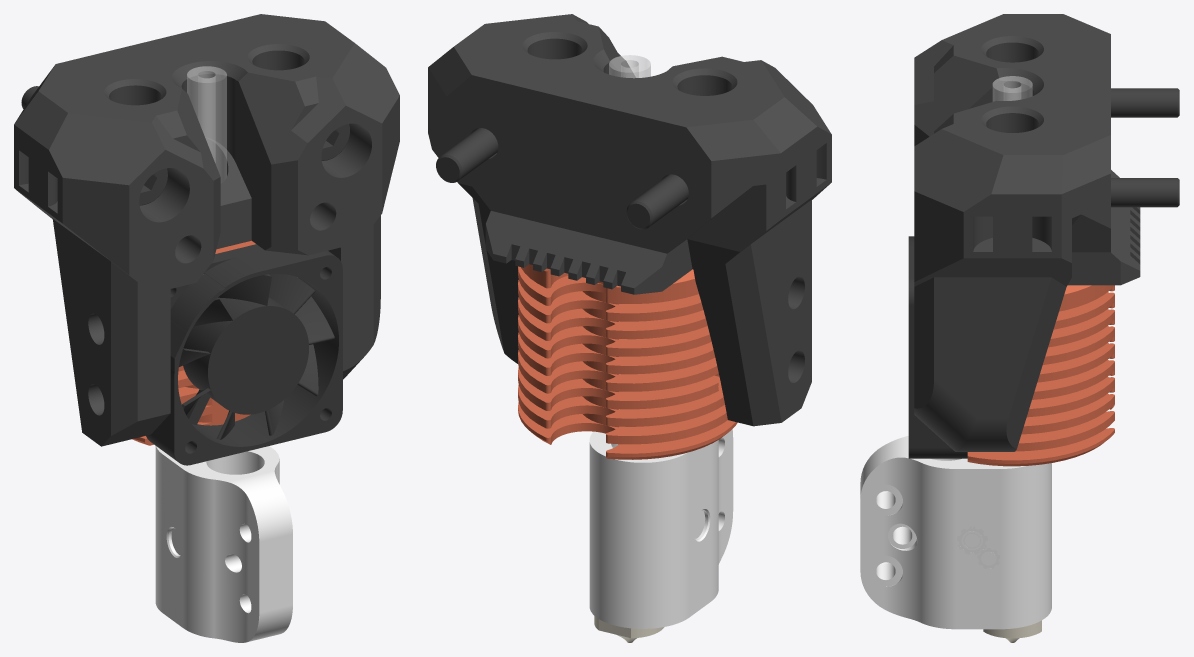
File: Nova V1.1.dae
The picture shows the model from 3 angles, left to right: view 1: azimuth 30°, elevation 25°; view 2: azimuth 150°, elevation 25°; view 3: azimuth 270°, elevation 25°; orthographic projection. The views are drawn at different scales.
Visible parts, largest first — view 1: nova_face, 2010 FAN, HB, PTFE 33.55mm, DIN 912 M3 20 mm (×2), HS; view 2: nova_face, HS, HB, DIN 912 M3 20 mm (×2), PTFE 33.55mm, NZ; view 3: nova_face, HB, HS, DIN 912 M3 20 mm (×2), 2010 FAN, PTFE 33.55mm, NZ.
Part boxes in pixels (x1,y1,x2,y2): nova_face: [14, 14, 399, 446]; 2010 FAN: [146, 244, 342, 465]; HB: [155, 446, 292, 642]; PTFE 33.55mm: [187, 66, 226, 183]; DIN 912 M3 20 mm (×2): [21, 86, 349, 205]; HS: [132, 240, 255, 445]; nova_face: [428, 14, 831, 426]; HS: [518, 264, 737, 459]; HB: [589, 429, 733, 628]; DIN 912 M3 20 mm (×2): [436, 128, 688, 229]; PTFE 33.55mm: [609, 55, 650, 78]; NZ: [594, 616, 664, 642]; nova_face: [914, 14, 1140, 451]; HB: [860, 436, 1051, 629]; HS: [967, 285, 1114, 466]; DIN 912 M3 20 mm (×2): [1111, 88, 1179, 207]; 2010 FAN: [908, 236, 967, 458]; PTFE 33.55mm: [992, 76, 1032, 101]; NZ: [983, 620, 1041, 642].
Bounding box in the file's own units: 0.04 × 0.0325 × 0.0626.
